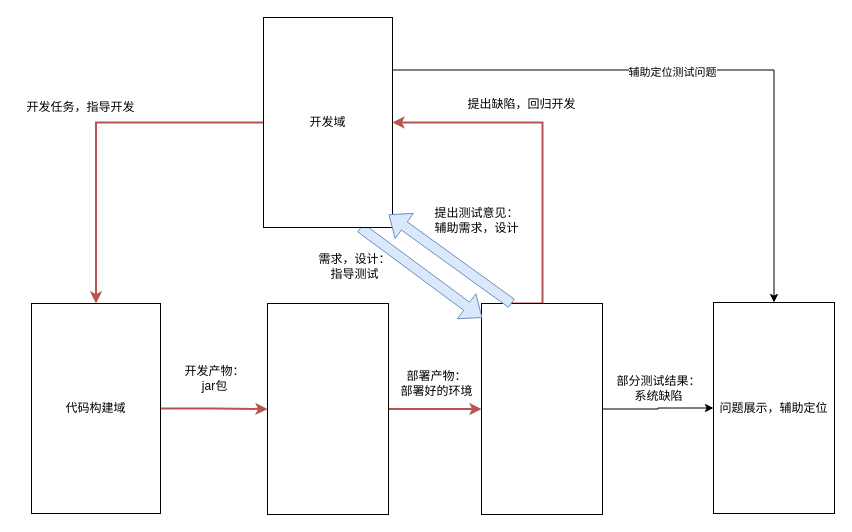
Image size: 852x532. Some labels were removed from this diagram. The centre of each missing label's shape, as x and y in pixels:
"测试域" belongs at point (541, 408).
"部署域" belongs at point (327, 408).
